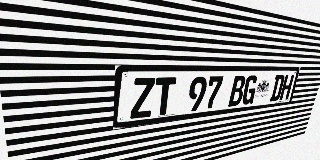7: (203, 76, 224, 110)
9: (187, 76, 208, 112)
B: (228, 76, 247, 107)
D: (269, 75, 285, 101)
G: (241, 75, 259, 105)
H: (279, 75, 294, 100)
T: (153, 77, 177, 116)
Z: (130, 78, 155, 119)
